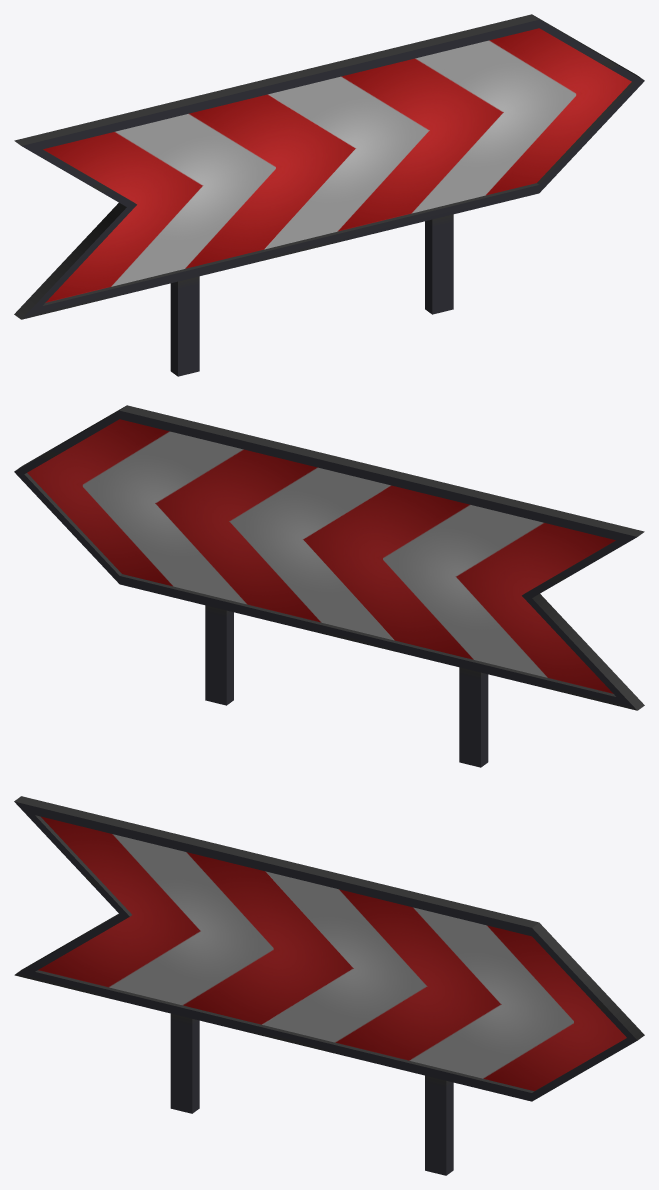
The model's file is Arrow.fbx.
3 renders of one model, top to bottom at view 1: azimuth 30°, elevation 25°; view 2: azimuth 150°, elevation 25°; view 3: azimuth 330°, elevation 25°, orthographic.
Parts seen in each view (by area): view 1: Arrow_Move; view 2: Arrow_Move; view 3: Arrow_Move.
Boxes of the visible parts, left/top/right/bottom form: Arrow_Move: left=14, top=14, right=644, bottom=376; Arrow_Move: left=14, top=405, right=644, bottom=767; Arrow_Move: left=14, top=796, right=644, bottom=1175.
Size of the model in its own units: 175 by 72.27 by 3.58.
